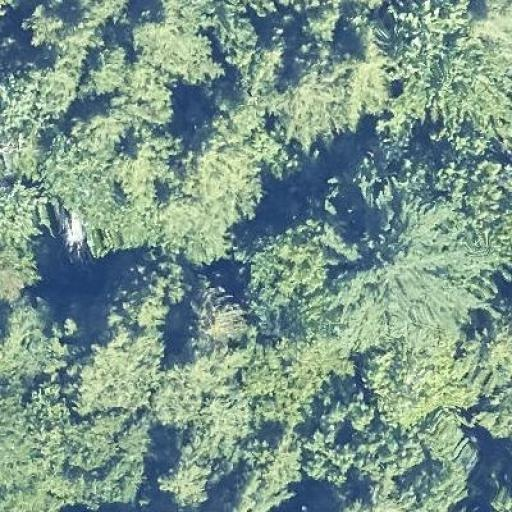tree-top: (146, 327, 320, 512), (308, 192, 480, 344), (54, 255, 188, 417), (239, 22, 397, 156), (379, 5, 511, 149), (3, 379, 151, 507), (40, 115, 166, 257), (155, 122, 270, 270), (0, 0, 113, 127), (348, 336, 475, 432), (236, 220, 336, 337), (304, 404, 422, 496), (439, 153, 512, 269), (126, 12, 226, 87), (423, 408, 493, 512), (0, 174, 44, 310), (0, 295, 64, 384), (474, 324, 512, 444), (76, 43, 136, 95)
